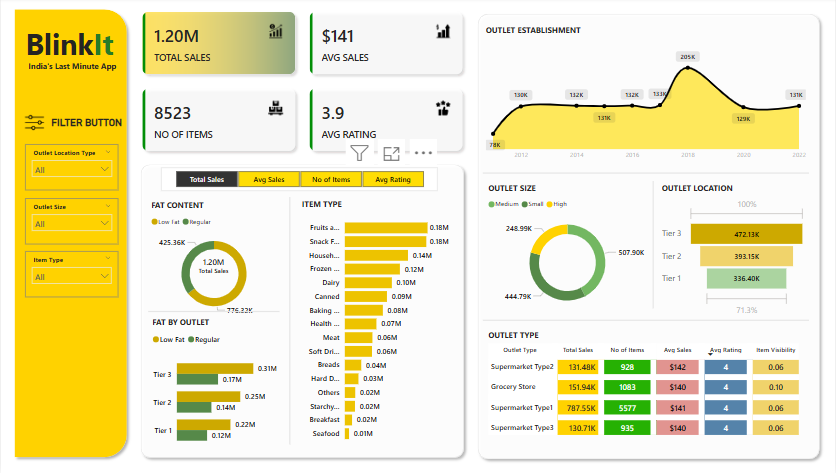

Layout of this report page (visuals, bound fields, positions):
{"tool":"powerbi","page":{"name":"Page 1","canvas":[1400,800],"ordinal":0},"visuals":[{"type":"shape","box":[13.8,12.1,206.9,770.6],"z":0},{"type":"textbox","box":[28,40,176,86],"z":1000},{"type":"textbox","box":[34,100,170,30],"z":2000},{"type":"cardVisual","fields":{"Data":["BlinkIT Grocery Data.Total Sales","BlinkIT Grocery Data.Avg Sales","BlinkIT Grocery Data.No of Items","BlinkIT Grocery Data.Avg Rating"]},"box":[220,8,572,268],"z":3000},{"type":"shape","box":[225.8,272.4,560.3,510.3],"z":4000},{"type":"donutChart","title":"FAT CONTENT","fields":{"Y":["BlinkIT Grocery Data.Total Sales"],"Category":["BlinkIT Grocery Data.Item Fat Content"]},"box":[246.5,339.6,220.6,205.1],"z":5000},{"type":"slicer","fields":{"Values":["Metrics.Metrics"]},"box":[268.9,286.2,465.5,39.6],"z":6000},{"type":"cardVisual","fields":{"Data":["BlinkIT Grocery Data.Total Sales"]},"box":[309.1,417.3,96.6,58],"z":7000},{"type":"clusteredBarChart","title":"FAT BY OUTLET","fields":{"Y":["BlinkIT Grocery Data.Total Sales"],"Category":["BlinkIT Grocery Data.Outlet Location Type"],"Series":["BlinkIT Grocery Data.Item Fat Content"]},"box":[249.1,537.2,219.3,234.2],"z":8000},{"type":"shape","box":[246.5,512,220.6,32.7],"z":9000},{"type":"shape","box":[479.2,336.2,12.1,415.5],"z":10000},{"type":"barChart","title":"ITEM TYPE","fields":{"Y":["BlinkIT Grocery Data.Total Sales"],"Category":["BlinkIT Grocery Data.Item Type"]},"box":[499.9,337.9,256.9,418.9],"z":11000},{"type":"shape","box":[792,20,592,766],"z":12000},{"type":"lineChart","title":"OUTLET ESTABLISHMENT","fields":{"Category":["BlinkIT Grocery Data.Outlet Establishment Year"],"Y":["BlinkIT Grocery Data.Total Sales"]},"box":[810,46,548,236],"z":13000},{"type":"shape","box":[810,290,548,12],"z":14000},{"type":"donutChart","title":"OUTLET SIZE","fields":{"Y":["BlinkIT Grocery Data.Total Sales"],"Category":["BlinkIT Grocery Data.Outlet Size"]},"box":[814,312,276,226],"z":15000},{"type":"shape","box":[1090,310,12,214],"z":16000},{"type":"funnel","title":"OUTLET LOCATION","fields":{"Y":["Sum(BlinkIT Grocery Data.Sales)"],"Category":["BlinkIT Grocery Data.Outlet Location Type"]},"box":[1106,312,251,230],"z":17000},{"type":"shape","box":[810,538,548,12],"z":18000},{"type":"pivotTable","title":"OUTLET TYPE","fields":{"Values":["BlinkIT Grocery Data.Total Sales","BlinkIT Grocery Data.No of Items","BlinkIT Grocery Data.Avg Sales","BlinkIT Grocery Data.Avg Rating","Avg(BlinkIT Grocery Data.Item Visibility)"],"Rows":["BlinkIT Grocery Data.Outlet Type"]},"box":[814,558,544,194],"z":19000},{"type":"slicer","fields":{"Values":["BlinkIT Grocery Data.Outlet Location Type"]},"box":[41.4,248.2,156.9,77.6],"z":20000},{"type":"slicer","fields":{"Values":["BlinkIT Grocery Data.Outlet Size"]},"box":[41.4,337.9,156.9,77.6],"z":21000},{"type":"slicer","fields":{"Values":["BlinkIT Grocery Data.Item Type"]},"box":[40.6,427,156.5,77.3],"z":22000},{"type":"actionButton","box":[34.8,189.3,65.7,42.5],"z":24000},{"type":"textbox","box":[79.2,195.1,168.1,42.5],"z":25000}]}

Visuals, with their boxes in screenshot pixels (x1, y1, x2, y2), scaled from the page's 1400x800 canvas onto the 836x473 screenshot:
shape: select_region(8, 7, 132, 463)
textbox: select_region(17, 24, 122, 74)
textbox: select_region(20, 59, 122, 77)
cardVisual - BlinkIT Grocery Data.Total Sales x BlinkIT Grocery Data.Avg Sales: select_region(131, 5, 473, 163)
shape: select_region(135, 161, 469, 463)
"FAT CONTENT" donutChart: select_region(147, 201, 279, 322)
slicer - Metrics.Metrics: select_region(161, 169, 439, 193)
cardVisual - BlinkIT Grocery Data.Total Sales: select_region(185, 247, 242, 281)
"FAT BY OUTLET" clusteredBarChart: select_region(149, 318, 280, 456)
shape: select_region(147, 303, 279, 322)
shape: select_region(286, 199, 293, 444)
"ITEM TYPE" barChart: select_region(299, 200, 452, 447)
shape: select_region(473, 12, 826, 465)
"OUTLET ESTABLISHMENT" lineChart: select_region(484, 27, 811, 167)
shape: select_region(484, 171, 811, 179)
"OUTLET SIZE" donutChart: select_region(486, 184, 651, 318)
shape: select_region(651, 183, 658, 310)
"OUTLET LOCATION" funnel: select_region(660, 184, 810, 320)
shape: select_region(484, 318, 811, 325)
"OUTLET TYPE" pivotTable: select_region(486, 330, 811, 445)
slicer - BlinkIT Grocery Data.Outlet Location Type: select_region(25, 147, 118, 193)
slicer - BlinkIT Grocery Data.Outlet Size: select_region(25, 200, 118, 246)
slicer - BlinkIT Grocery Data.Item Type: select_region(24, 252, 118, 298)
actionButton: select_region(21, 112, 60, 137)
textbox: select_region(47, 115, 148, 140)
